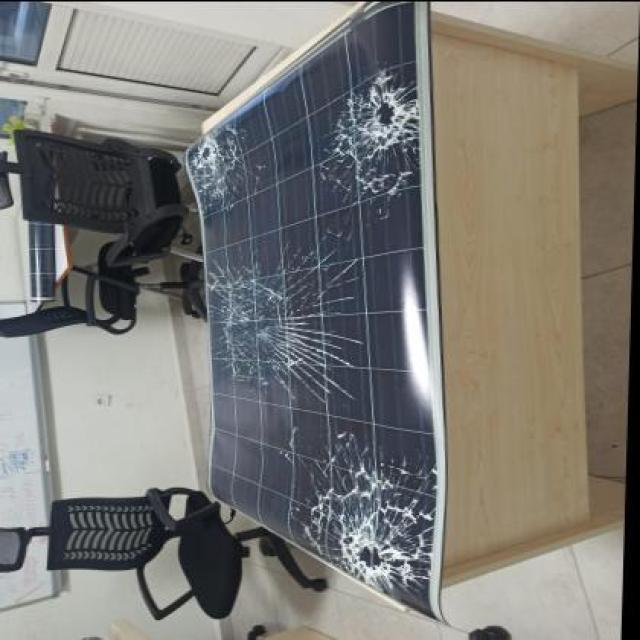cracked: (195, 3, 448, 619)
